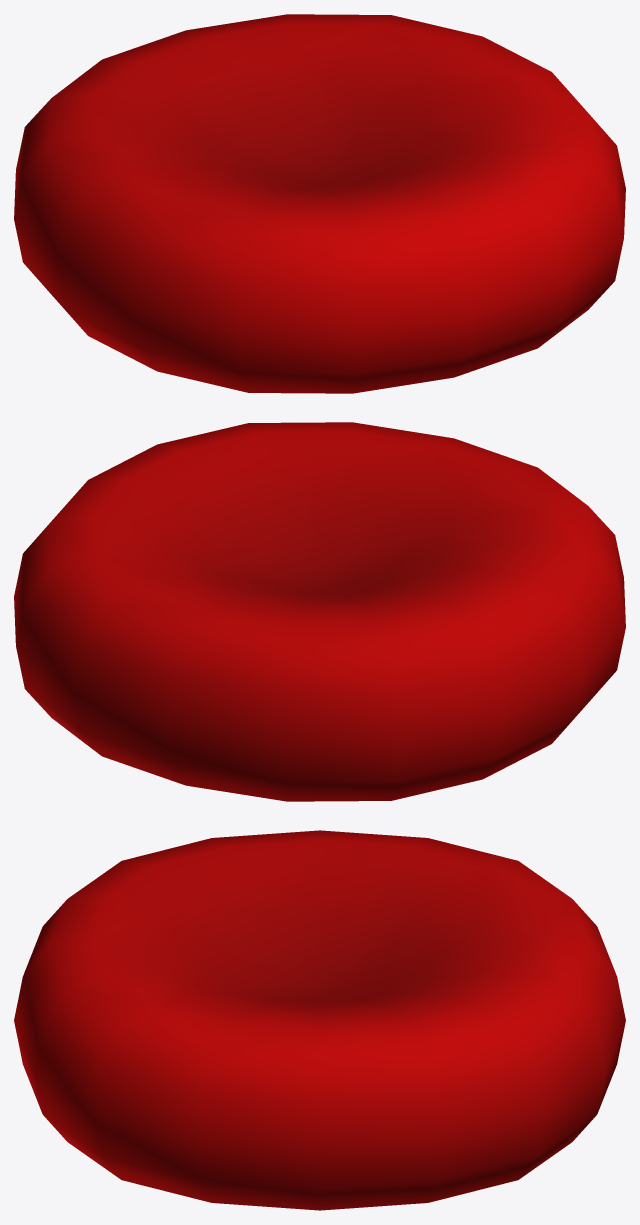
File: AnimalParts_RedBloodCell.fbx
3 renders of one model, top to bottom at view 1: azimuth 30°, elevation 25°; view 2: azimuth 150°, elevation 25°; view 3: azimuth 270°, elevation 25°, orthographic.
Parts seen in each view (by area): view 1: RedBloodCell; view 2: RedBloodCell; view 3: RedBloodCell.
Boxes of the visible parts, x1,y1,x2,y2 form: RedBloodCell: (14,14,625,393); RedBloodCell: (14,422,625,801); RedBloodCell: (14,830,625,1210).
Size of the model in its own units: 186 by 56.79 by 186.
